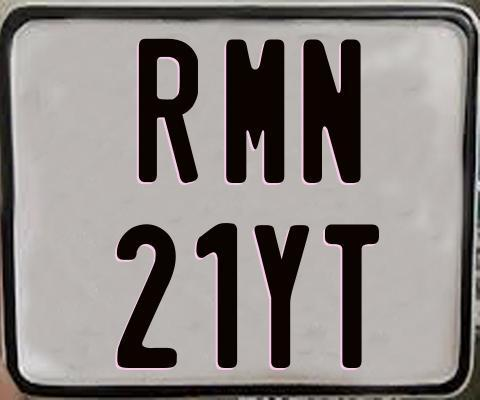1: (193, 223, 240, 374)
2: (115, 223, 179, 367)
M: (226, 36, 286, 181)
N: (300, 39, 358, 183)
R: (139, 38, 202, 185)
T: (325, 221, 385, 369)
Y: (253, 225, 314, 370)
